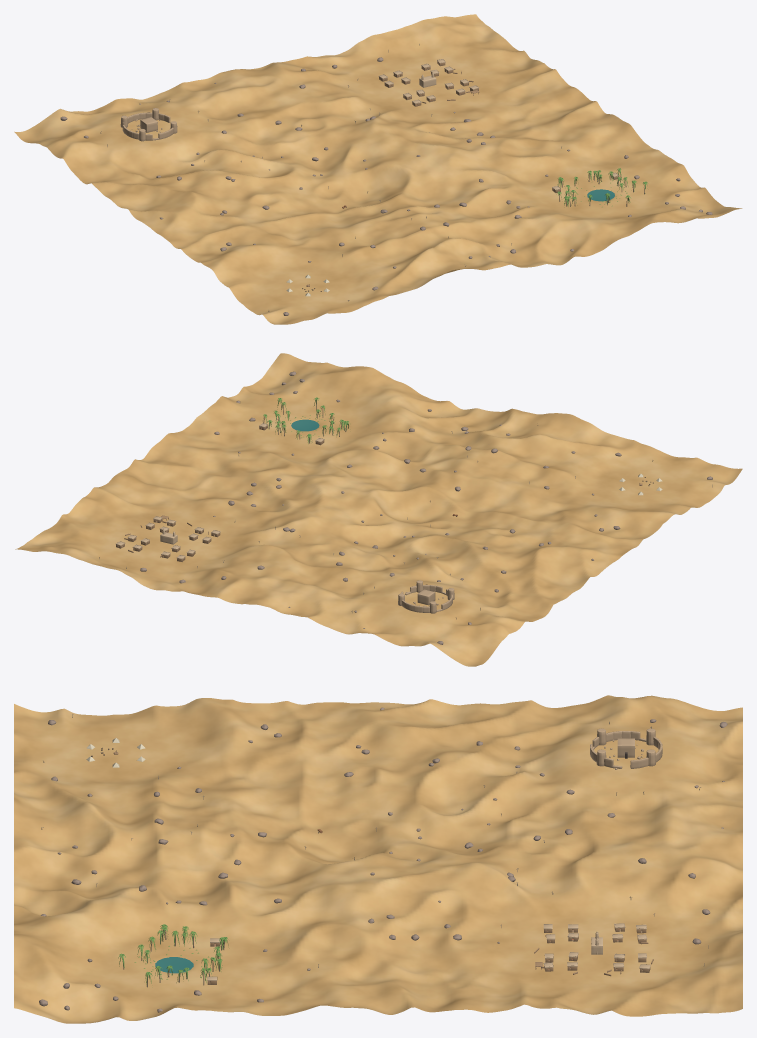
Rendered from map.glb.
The picture shows the model from 3 angles, top to bottom: view 1: azimuth 30°, elevation 25°; view 2: azimuth 150°, elevation 25°; view 3: azimuth 270°, elevation 25°; orthographic projection. The views are drawn at different scales.
Visible parts, largest first — view 1: Carte; view 2: Carte; view 3: Carte.
Part boxes in pixels (x1,y1,x2,y2): Carte: (14, 14, 742, 324); Carte: (15, 353, 742, 666); Carte: (14, 695, 742, 1023).
Size of the model in its own units: 500 by 32.66 by 500.
Materials: 19 (1 with a texture image).
